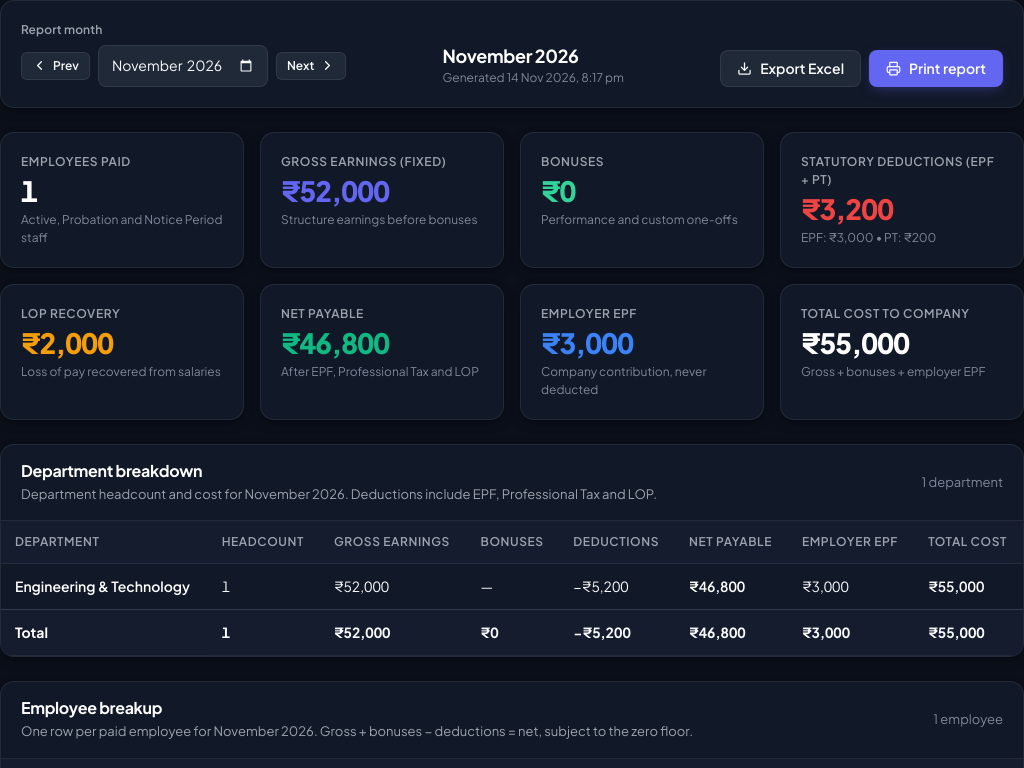
Test: Finance Report — month and rollup › prices the selected month from the ledger: absences become LOP
A month with no ledger records keeps the legacy monthly fields.
Click the button with aria-label "Previous month". click: (55, 66)
box: top-left (21, 52), bottom-right (90, 80)
(page scrolled)
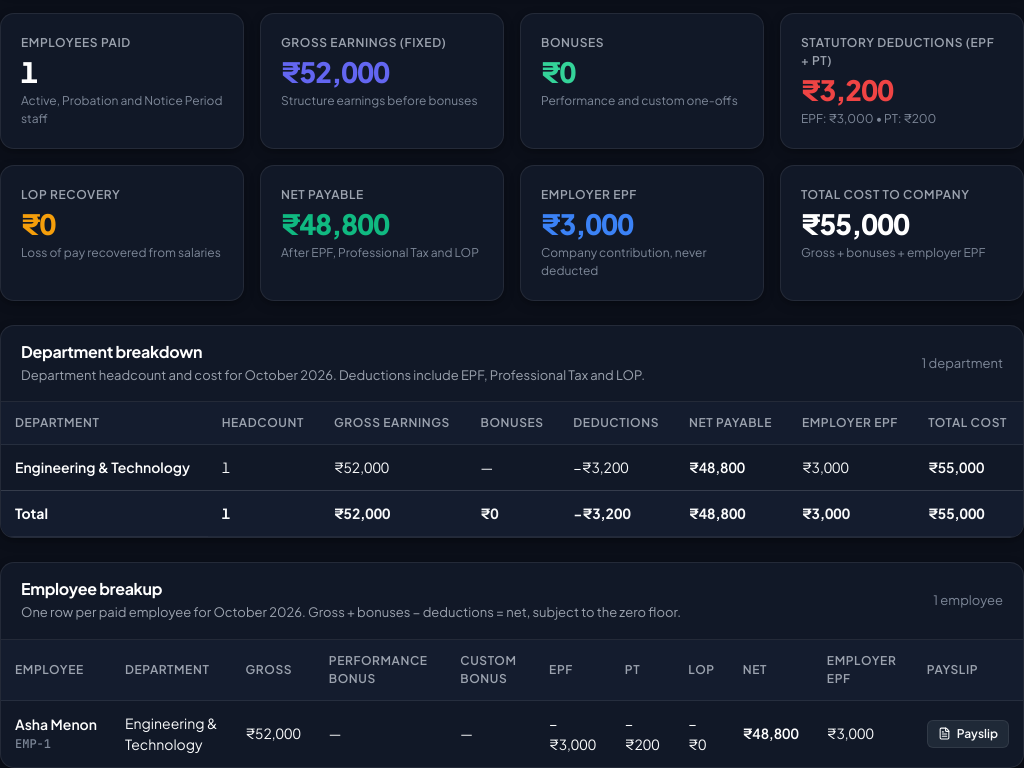
Expected: the text "−₹0" is shown, top-left (674, 701), bottom-right (729, 767)
